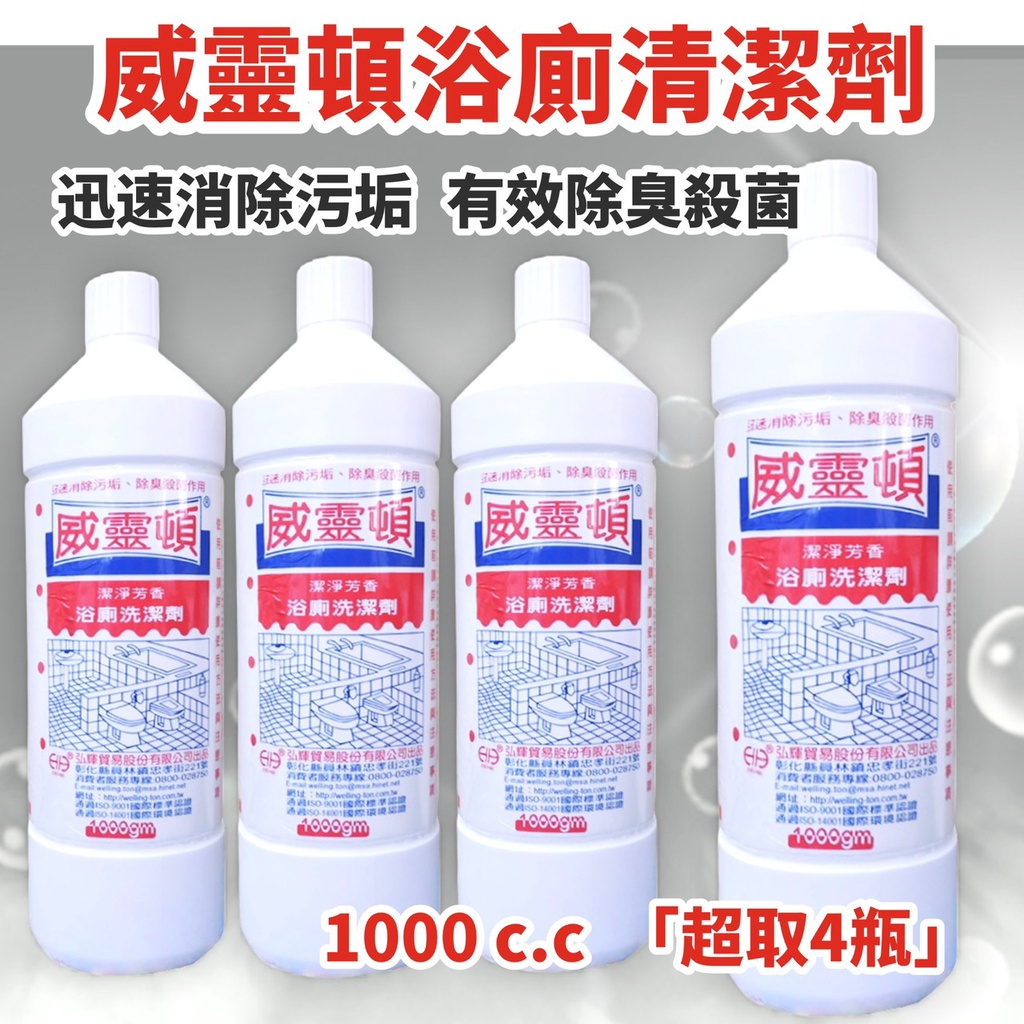cleaner: (678, 161, 989, 1016), (444, 253, 675, 973), (9, 264, 240, 982), (223, 242, 443, 977)
